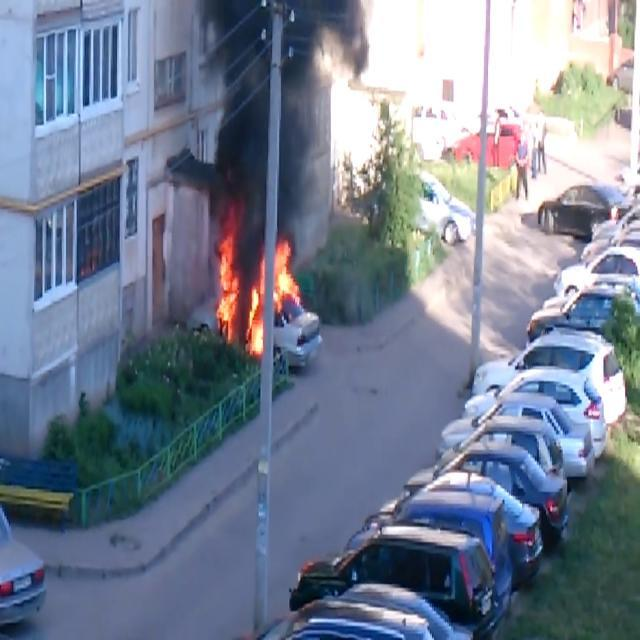Fire: (212, 224, 298, 354)
Smoke: (196, 1, 356, 266)
